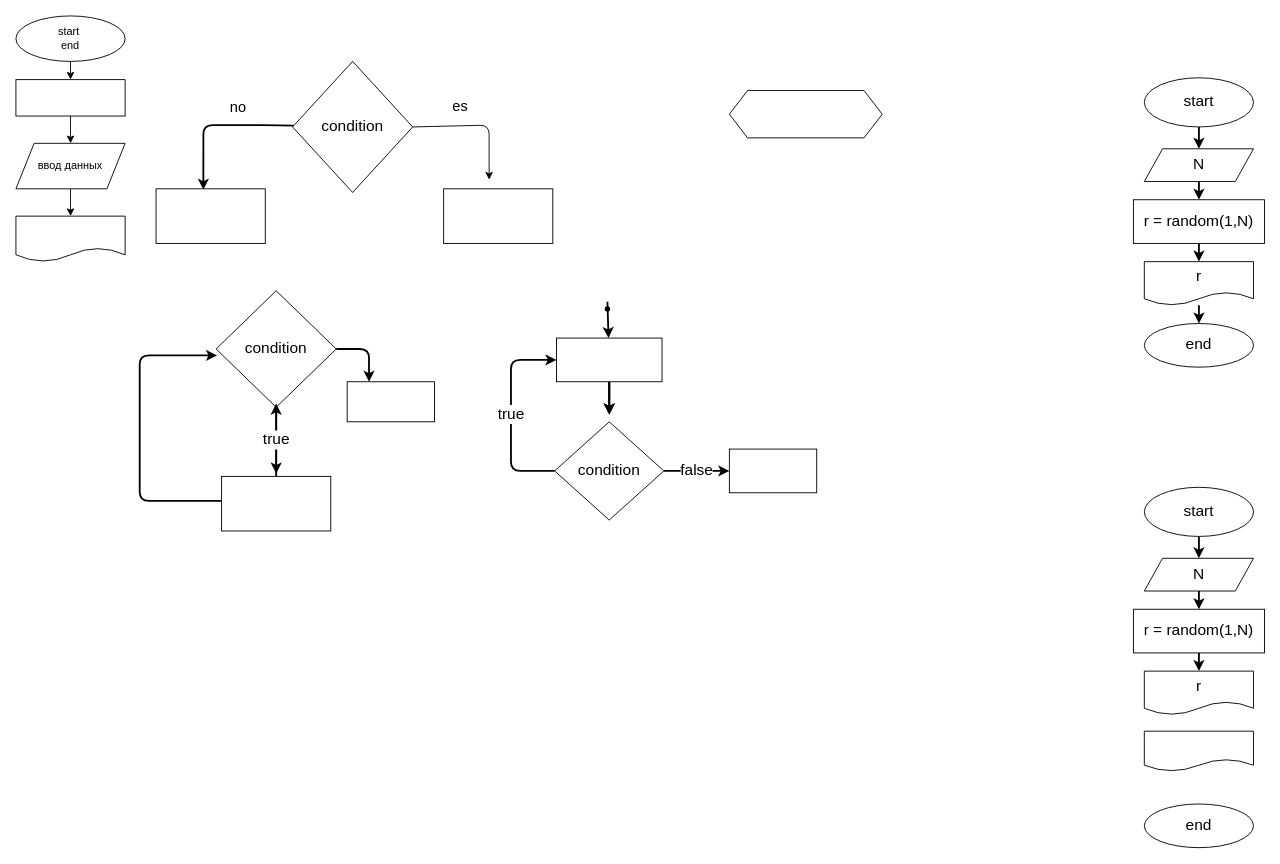
This 1280x864 diagram has some shape labels left out. The shapes that lost their labels are listed below. From the top down, each one's box as (x1, y1, x2, y2) in pixels, then its label:
(15, 79, 125, 116): count=0
(728, 90, 882, 138): count = 1, 10, 1
(15, 215, 125, 262): вывод данных
(1143, 730, 1254, 771): r*r
